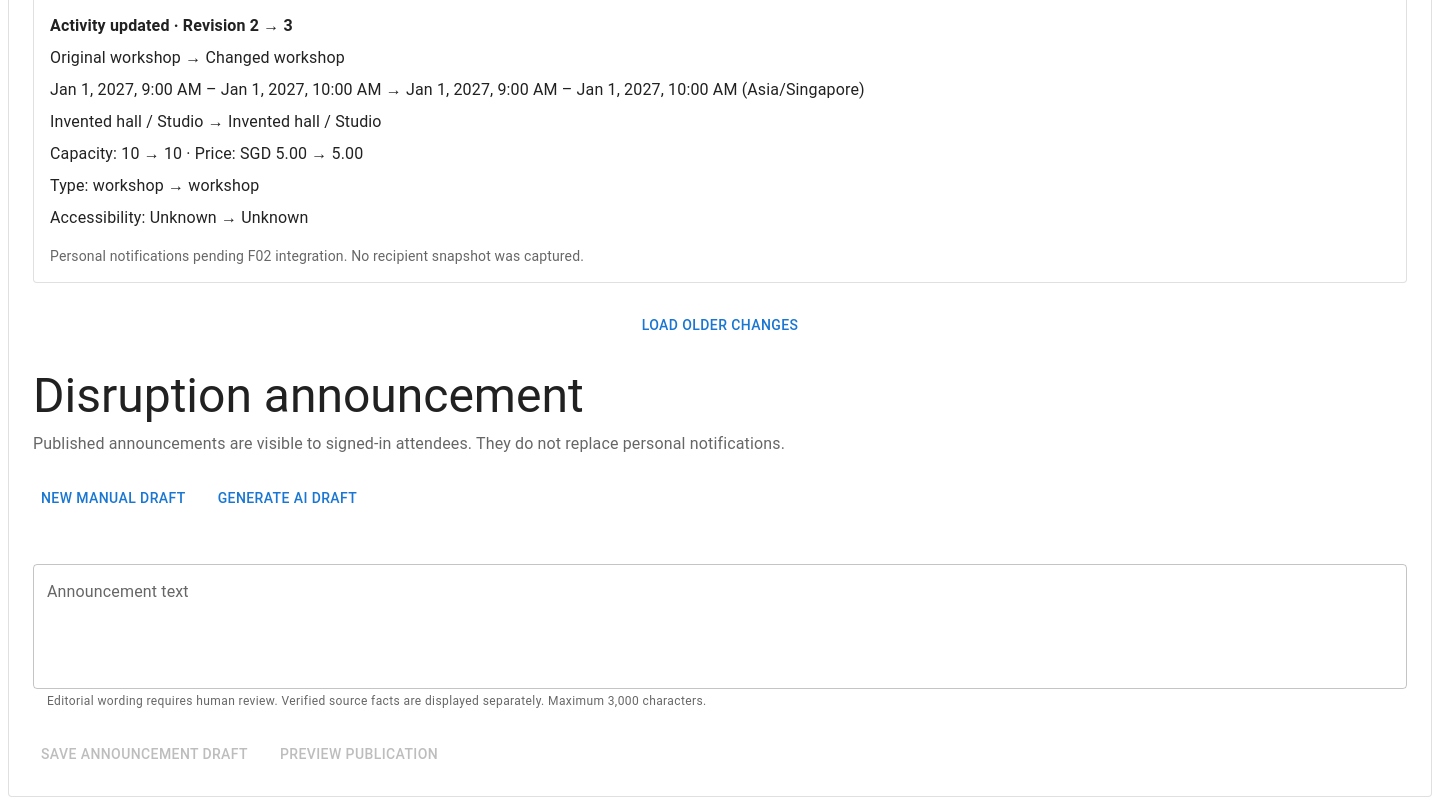
manual announcement requires saved exact-text preview before explicit publication
(page scrolled)
expect the button "Preview publication" is disabled: met, box [272, 736, 446, 772]
In the text box labelled "Announcement text": (720, 626) [47, 580, 1393, 672], type "Please review the updated workshop."
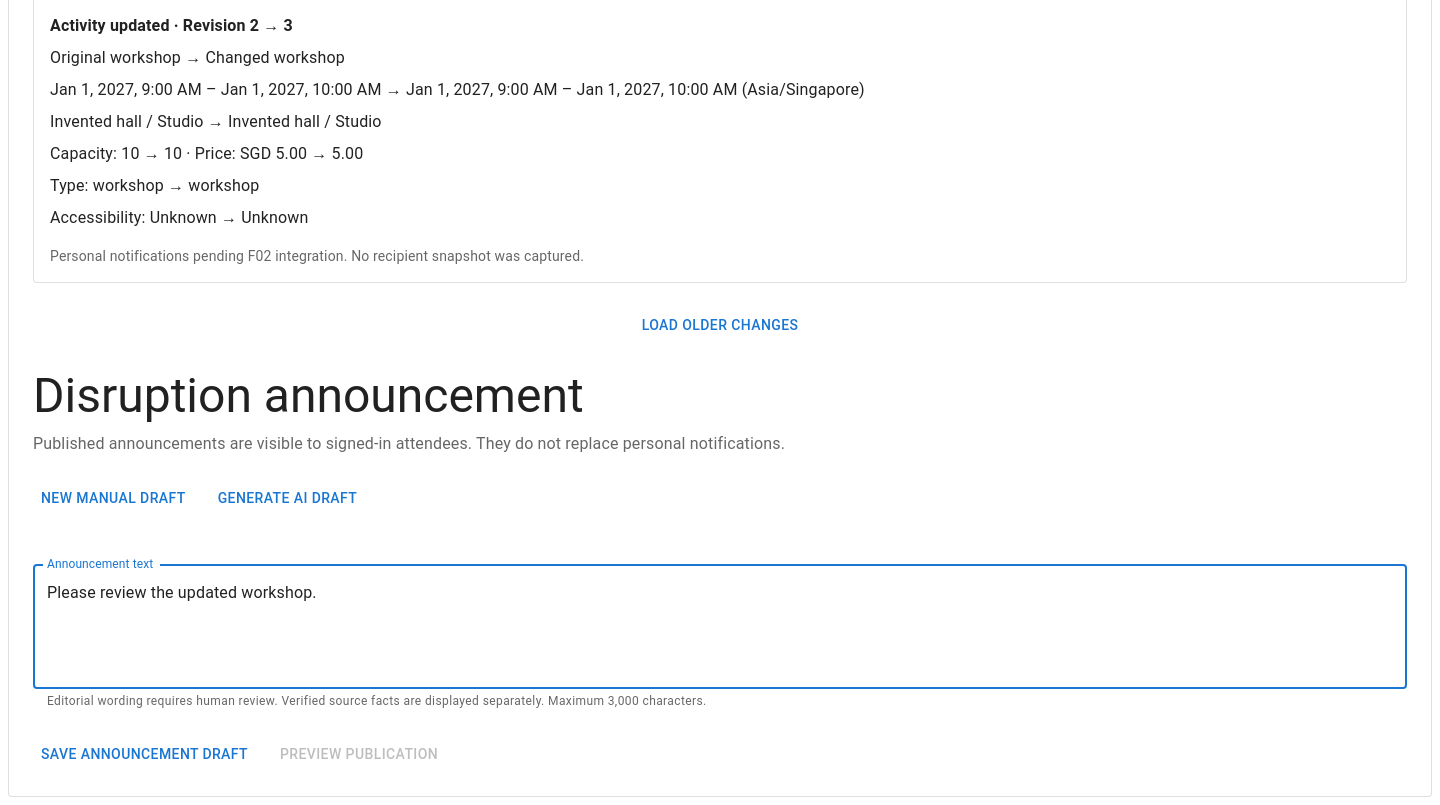
Click the button "Save announcement draft": (144, 754) [33, 736, 256, 772]
(page scrolled)
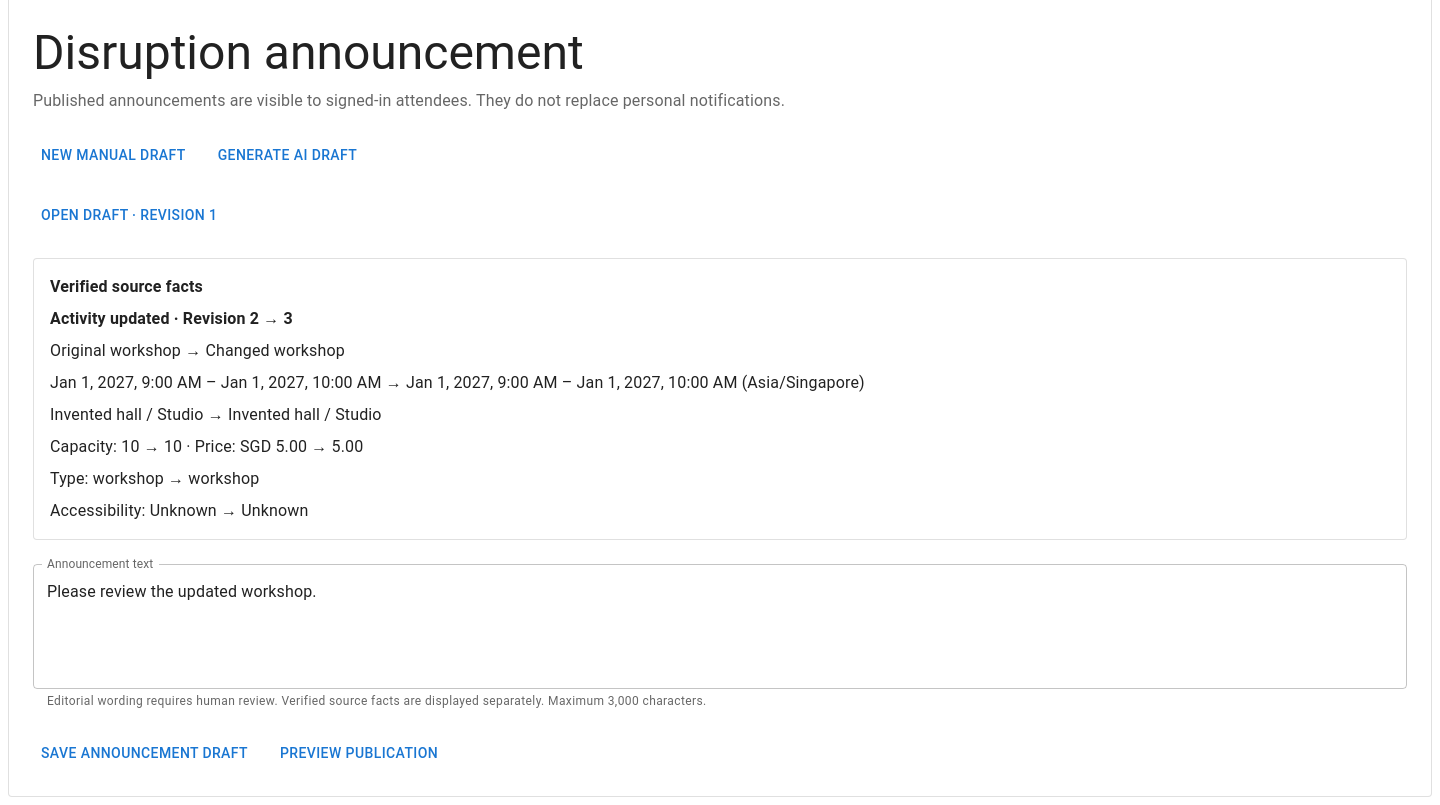
Click the button "Preview publication": (359, 754) [272, 736, 446, 772]
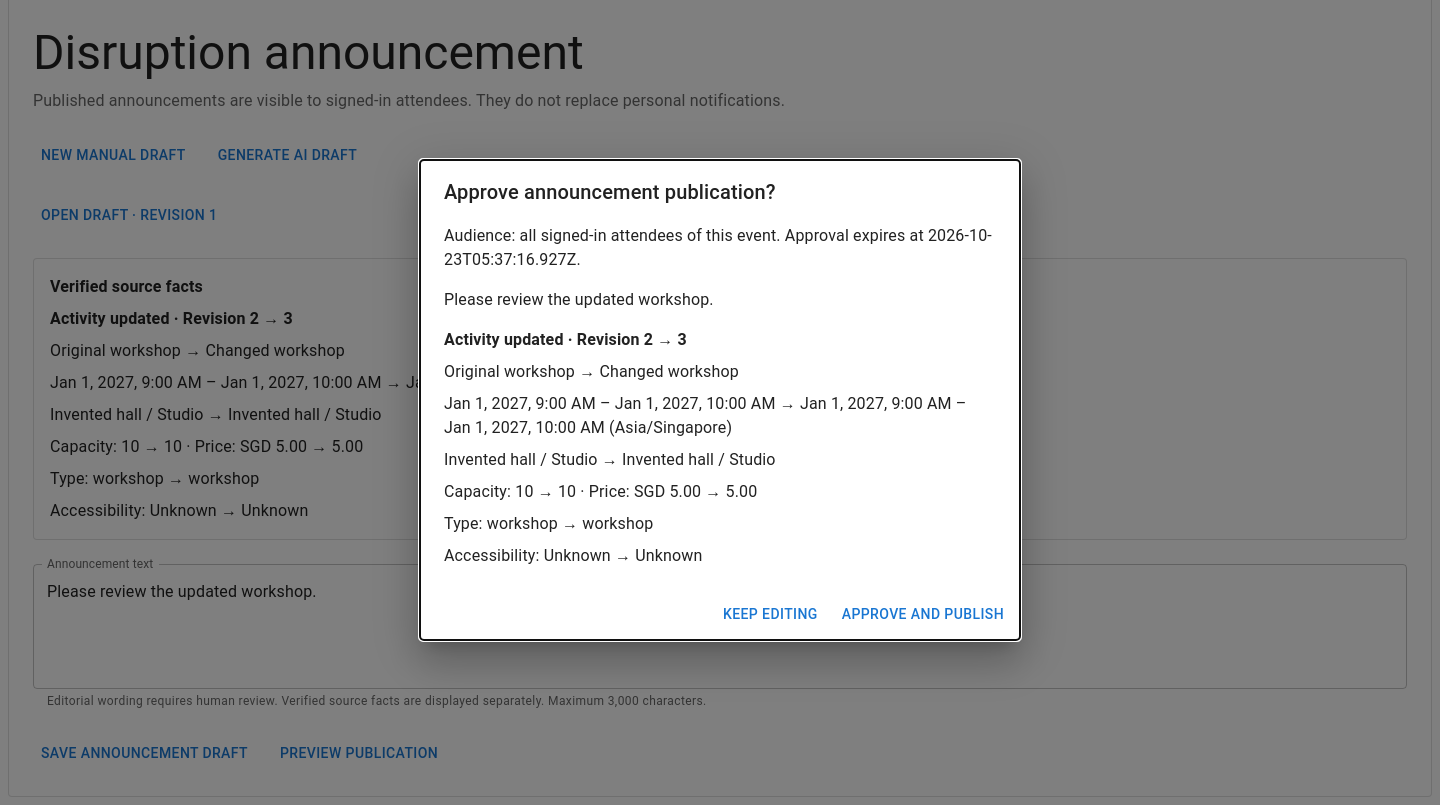
expect the text "Please review the updated workshop." is shown: met, box [444, 290, 714, 309]
Click the button "Approve and publish": (923, 614) [834, 596, 1012, 632]
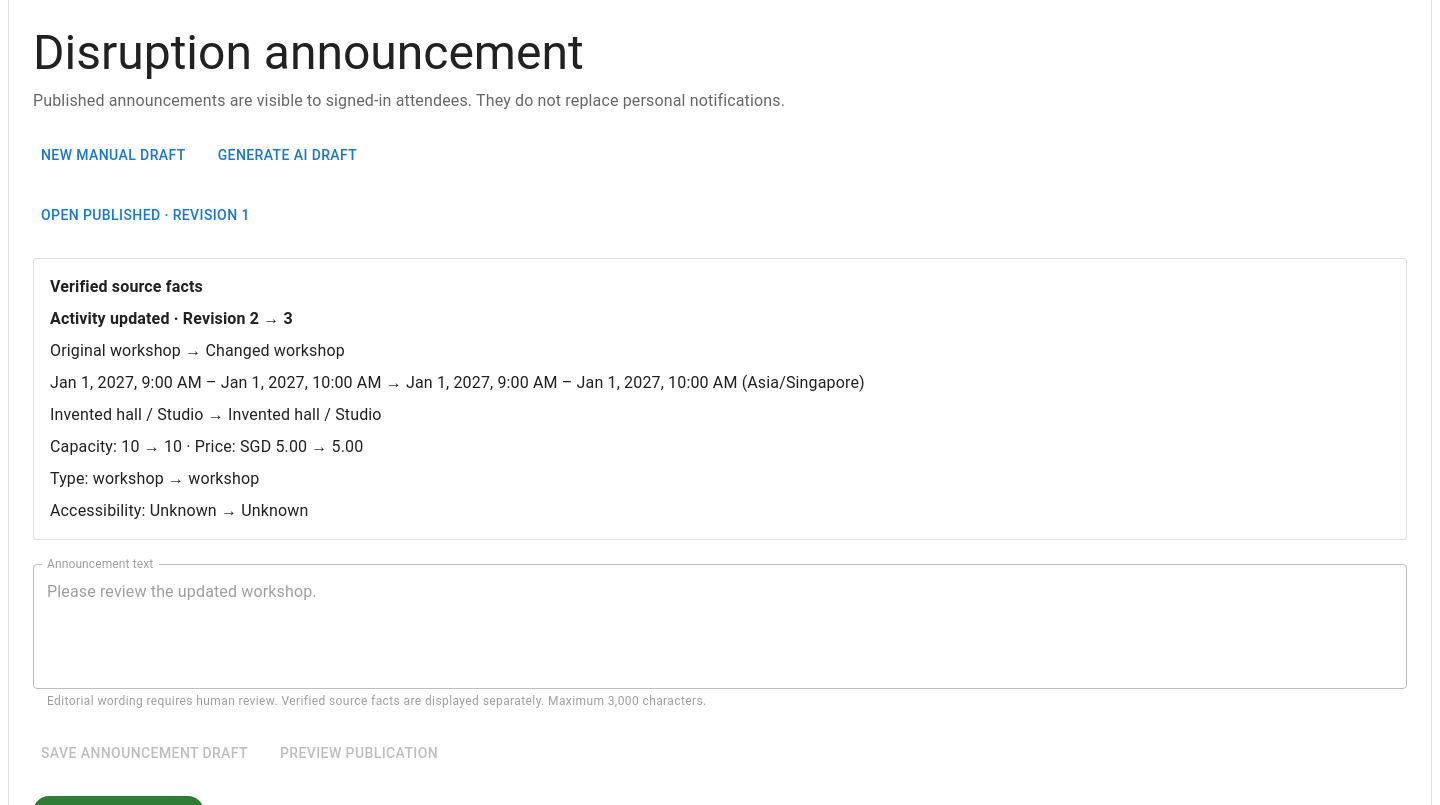
expect the text box labelled "Announcement text" is disabled: met, box [47, 580, 1393, 672]
